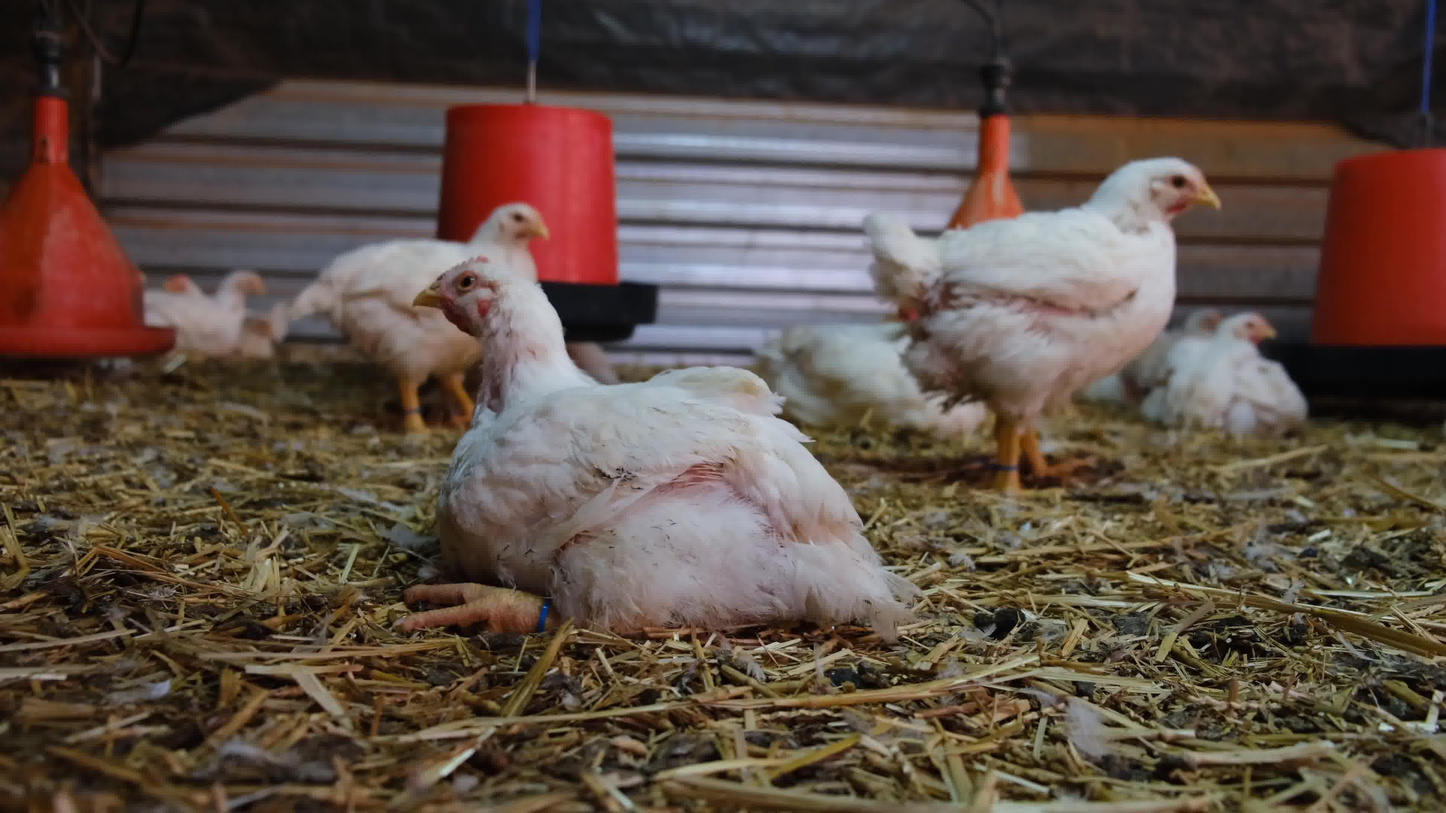AbNormal: (396, 256, 923, 637), (752, 309, 1009, 437), (1143, 309, 1313, 429), (1120, 300, 1236, 408)
Normal: (866, 157, 1226, 503), (296, 202, 552, 437), (140, 271, 273, 371), (155, 273, 287, 357)
